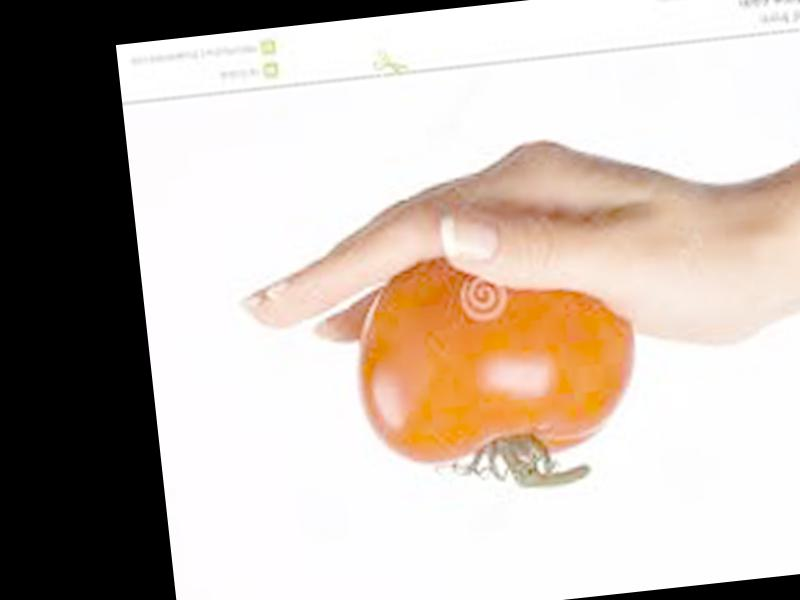Tomato: (347, 239, 645, 472)
